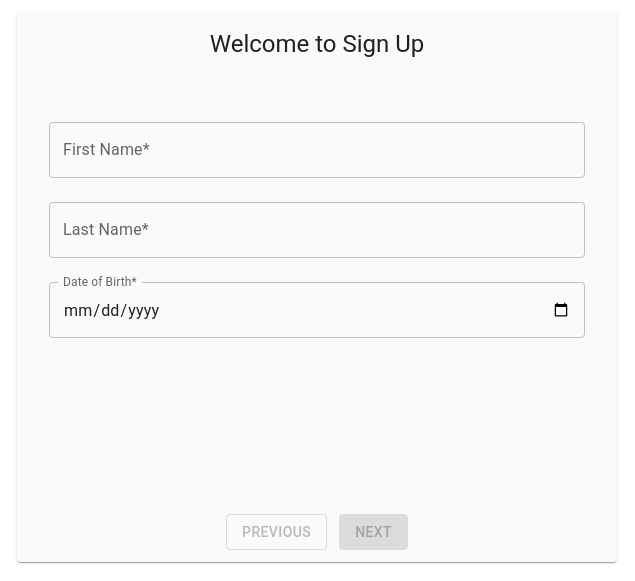
Test: MultiStepForm Integration Test2 › enables "Next" button when firstName, lastName, and dateOfBirth are filled (sync with blur)
Expected: the button with test id "next" is disabled, [339,514,408,550]
Type "John" into the field labelled "First Name*" at (317, 150), box [49,122,585,178]
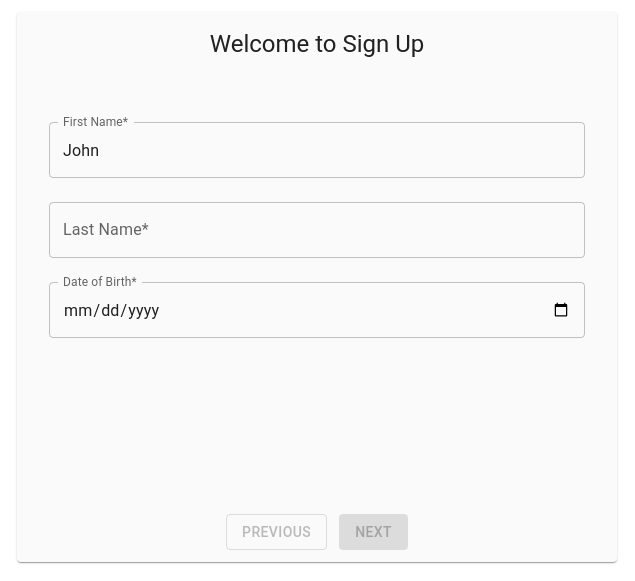
Type "Doe" into the field labelled "Last Name*" at (317, 230), box [49,202,585,258]
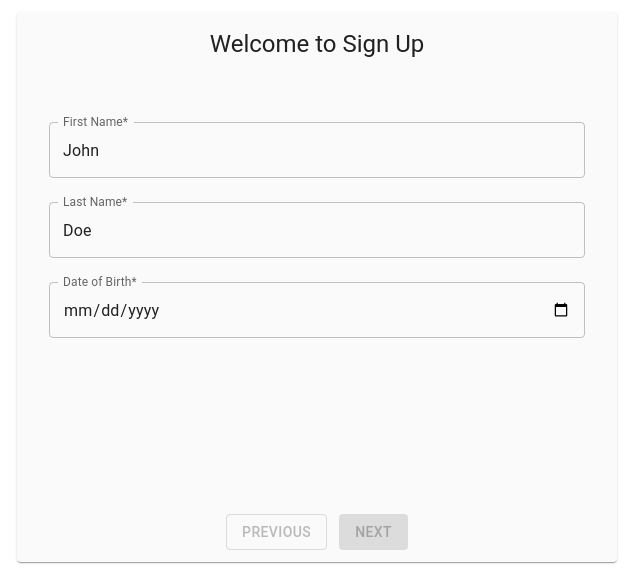
Type "1990-01-01" into the date field labelled "Date of Birth*" at (317, 310), box [49,282,585,338]
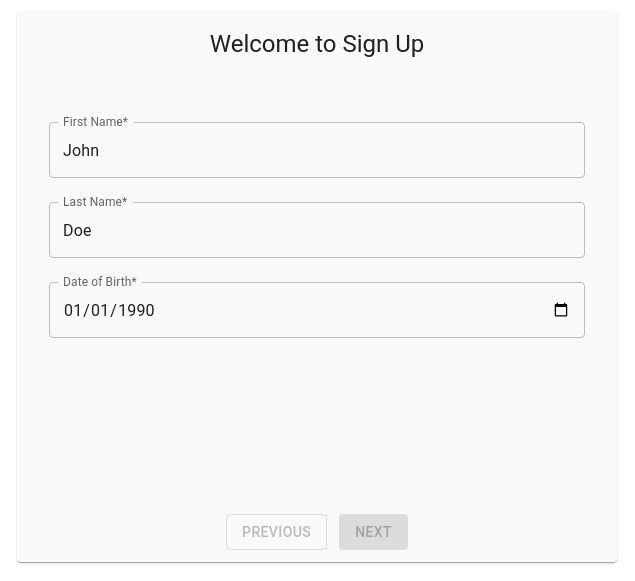
Leave the date field labelled "Date of Birth*", box [49,282,585,338]
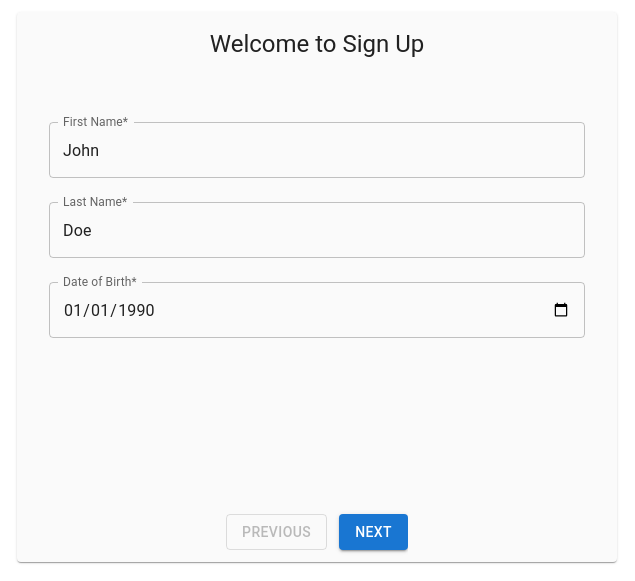
Expected: the button with test id "next" is enabled, [339,514,408,550]
